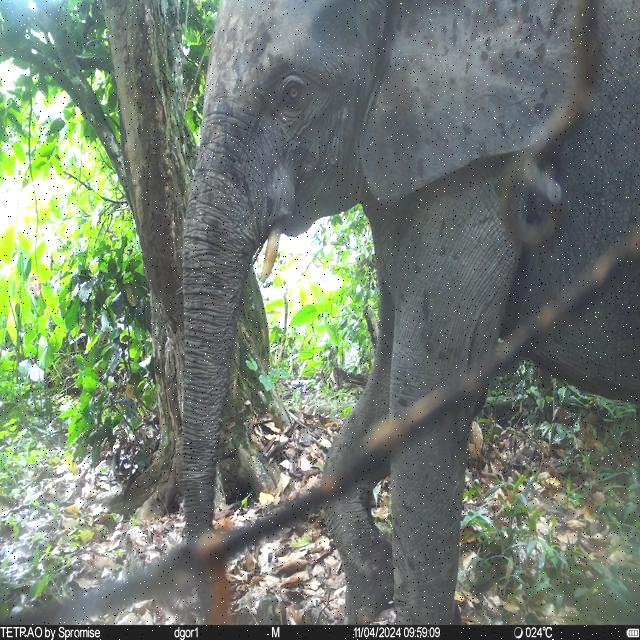ear: (358, 1, 596, 208)
elephant: (182, 0, 640, 626)
tusk: (260, 219, 284, 285)
